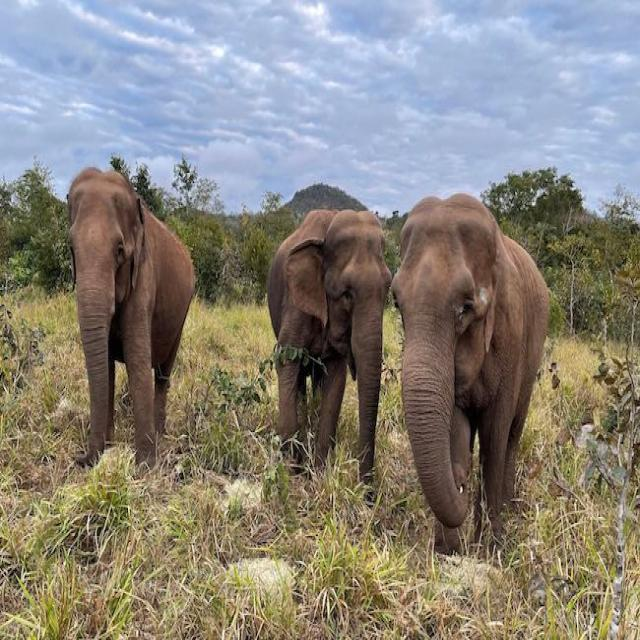Elephant: (392, 180, 548, 554), (54, 158, 200, 477), (259, 195, 390, 485)
